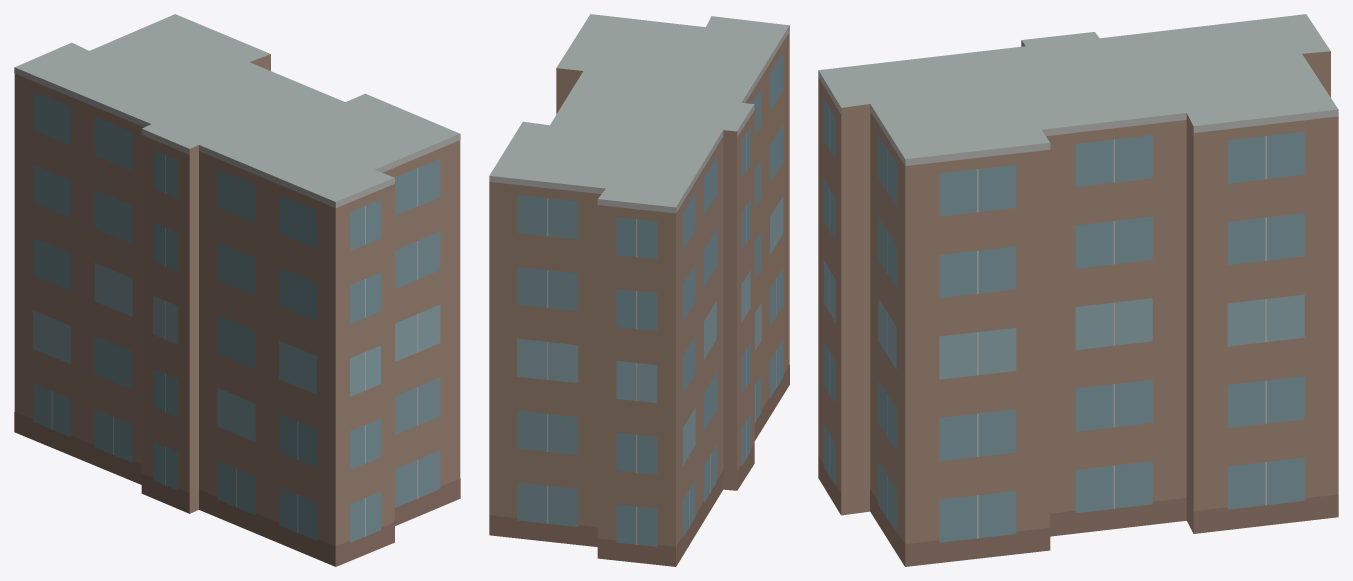
File: survey-upis-32564902.glb
The picture shows the model from 3 angles, left to right: view 1: azimuth 30°, elevation 25°; view 2: azimuth 150°, elevation 25°; view 3: azimuth 270°, elevation 25°; orthographic projection. The views are drawn at different scales.
Visible parts, largest first — view 1: survey-upis-32564902.tmp; view 2: survey-upis-32564902.tmp; view 3: survey-upis-32564902.tmp.
Part boxes in pixels (x1=…): survey-upis-32564902.tmp: x1=14, y1=14, x2=460, y2=566; survey-upis-32564902.tmp: x1=489, y1=14, x2=789, y2=566; survey-upis-32564902.tmp: x1=818, y1=14, x2=1338, y2=566.
Size of the model in its own units: 11.09 by 14.5 by 16.78.
